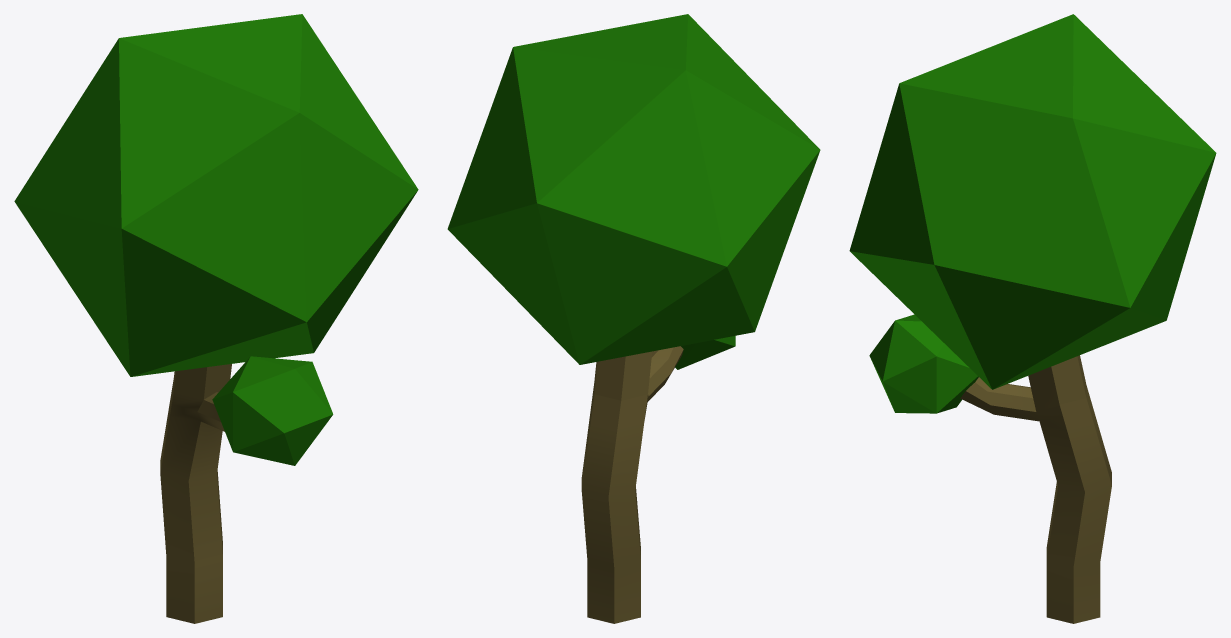
File: tree1.fbx
3 renders of one model, left to right at view 1: azimuth 30°, elevation 25°; view 2: azimuth 150°, elevation 25°; view 3: azimuth 270°, elevation 25°, orthographic. The views are drawn at different scales.
Visible parts, largest first — view 1: tree1; view 2: tree1; view 3: tree1.
Boxes of the visible parts, bbox=[...] form: tree1: bbox=[14, 14, 418, 623]; tree1: bbox=[447, 14, 820, 623]; tree1: bbox=[849, 14, 1216, 623].
Bounding box in the file's own units: 10.61 × 19.93 × 11.8.
